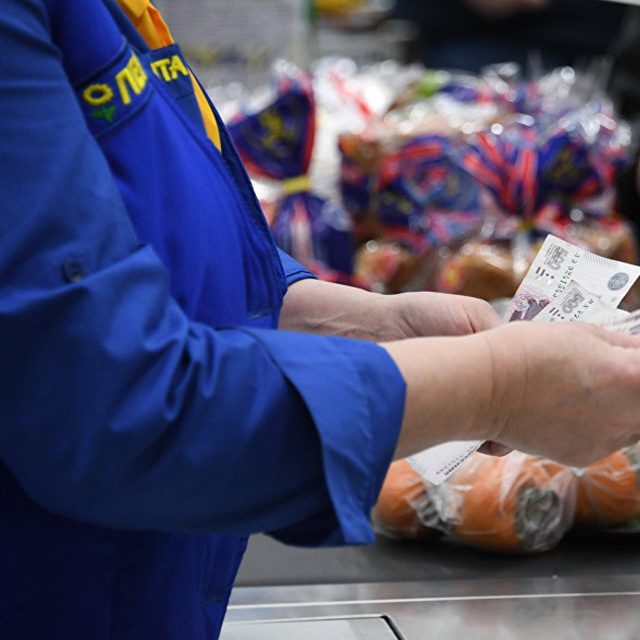banknotes: (507, 239, 639, 333)
